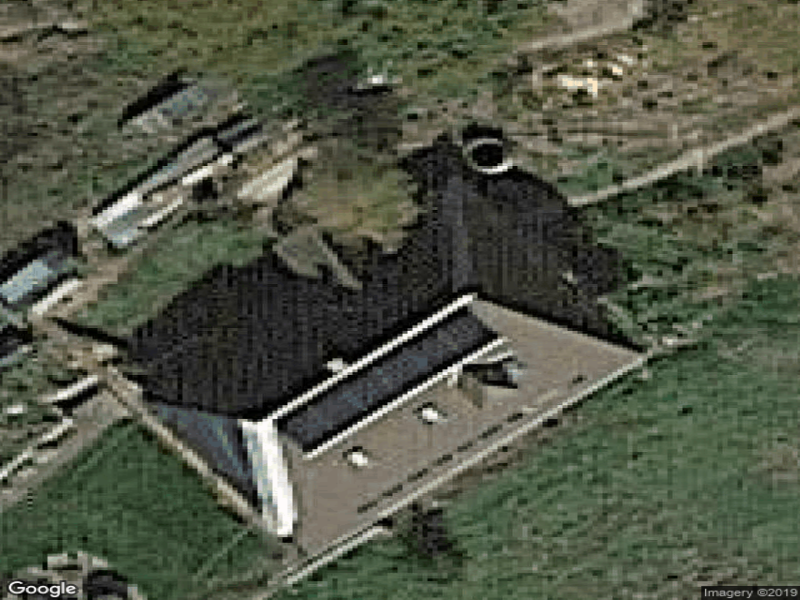pv: (272, 305, 500, 457)
